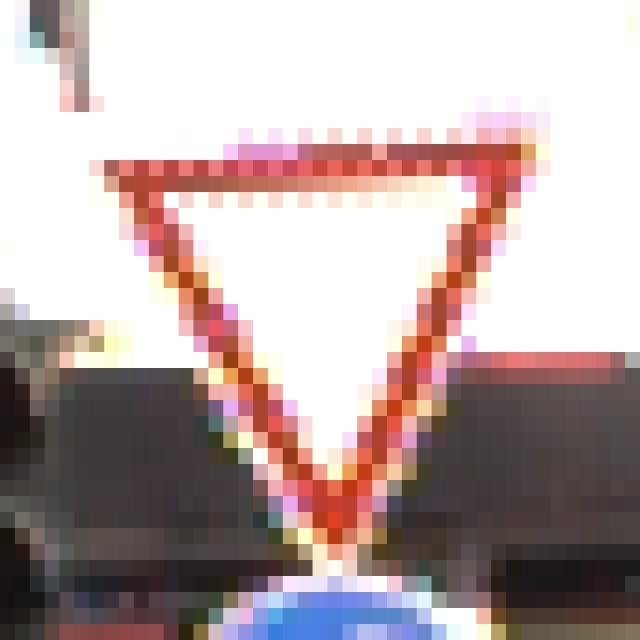Give Way: (90, 97, 567, 545)
